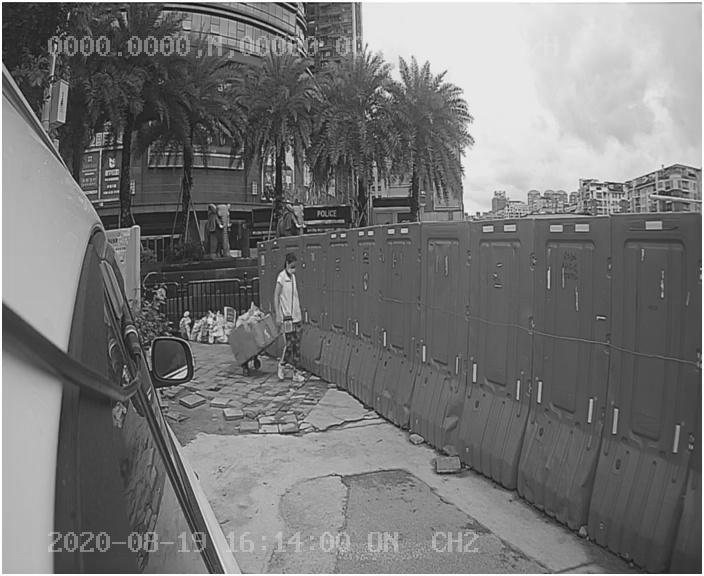person: (266, 252, 329, 391)
